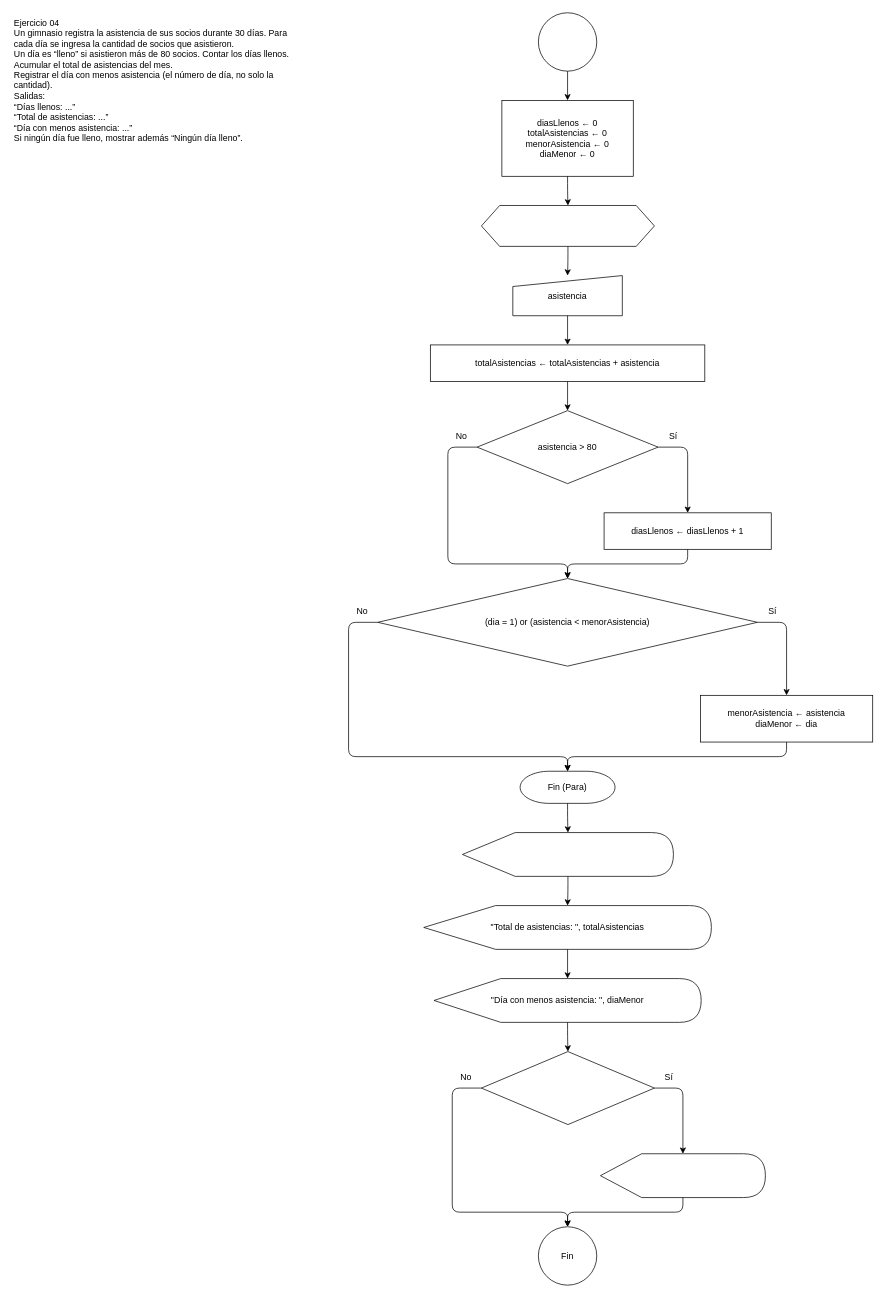
Some shapes in this 885 by 1298 pixel diagram are drawn without their labels. Here are the shapes that lost their labels. From the top down, the centre of each, then its label:
pixel 567 41: Inicio
pixel 567 225: Para dia ← 1 , 30 , 1
pixel 567 854: "Días llenos: ", diasLlenos
pixel 567 1088: diasLlenos = 0
pixel 682 1175: "Ningún día lleno"
